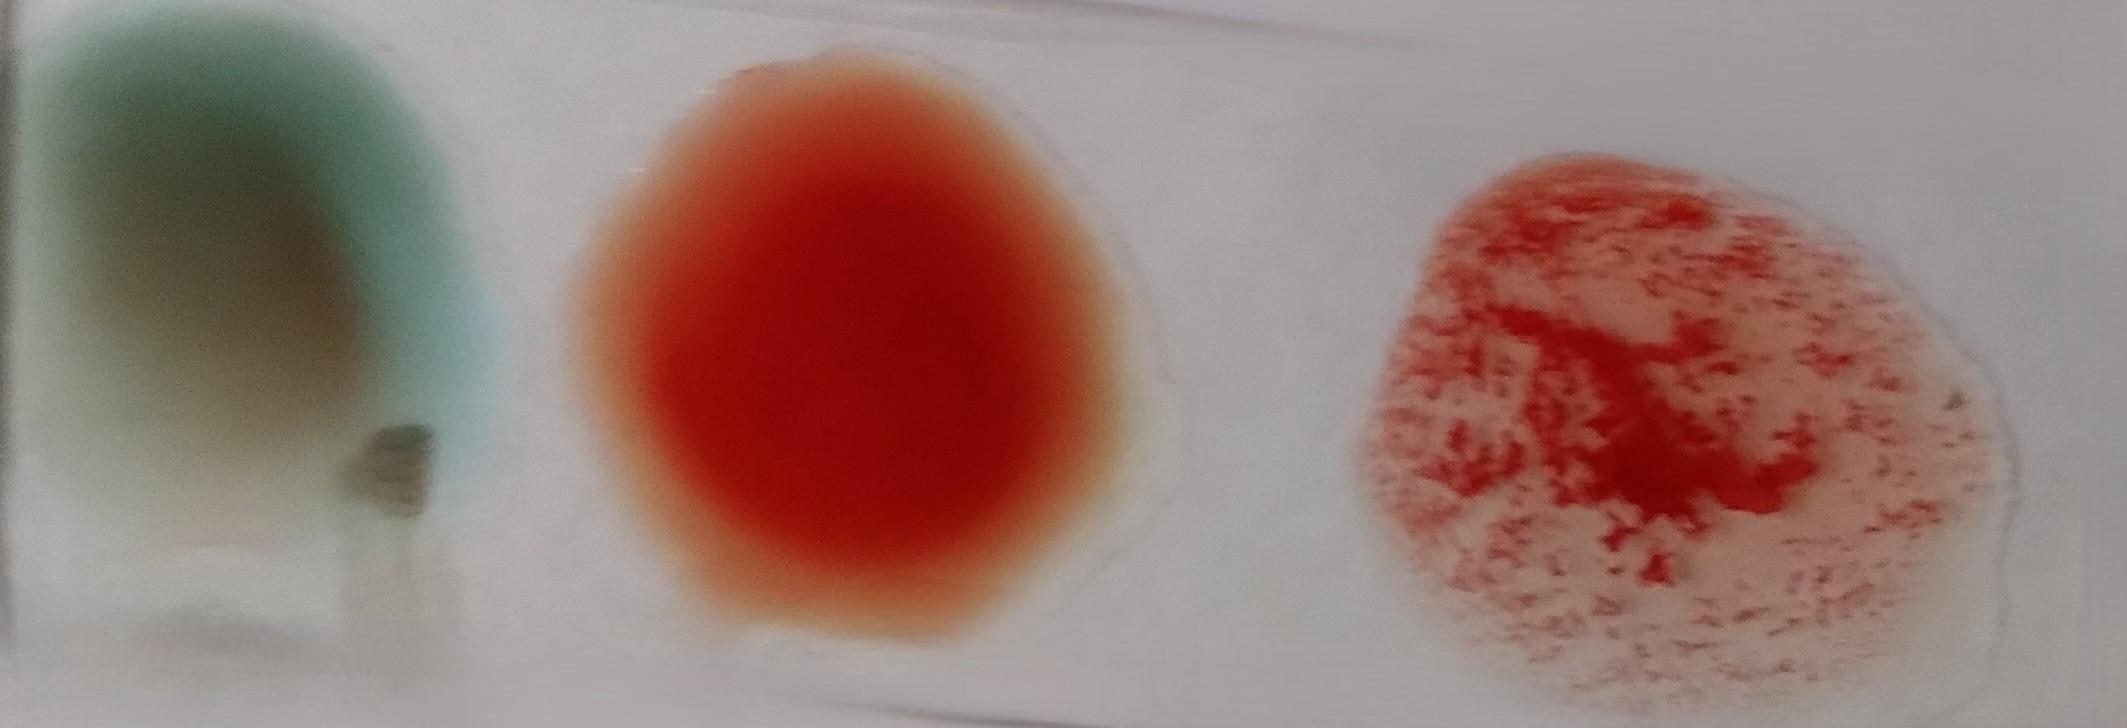D: (1392, 146, 1956, 717)
